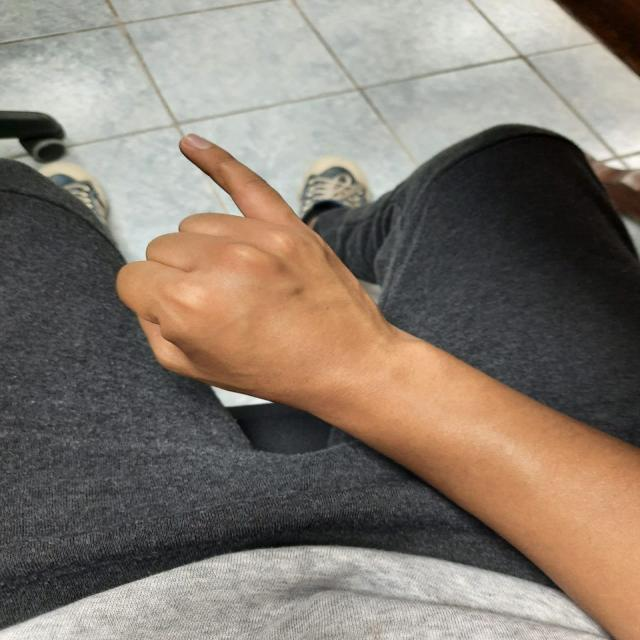Z: (95, 116, 413, 422)
